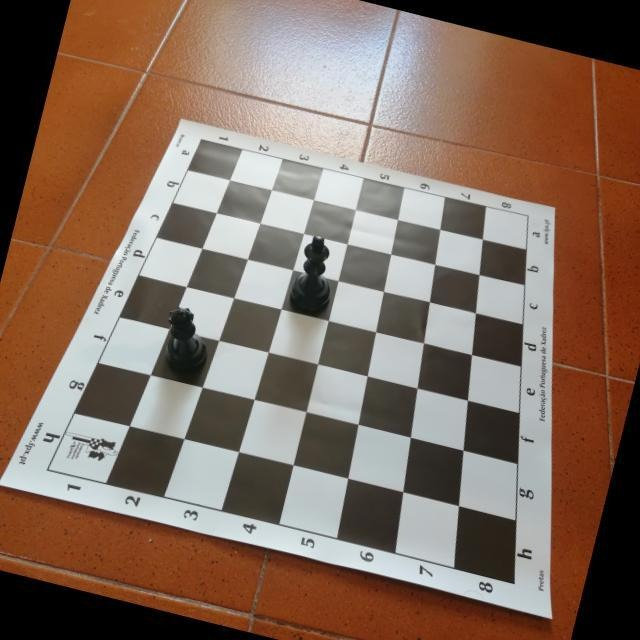black-king: (285, 231, 345, 316)
black-queen: (154, 302, 217, 377)
